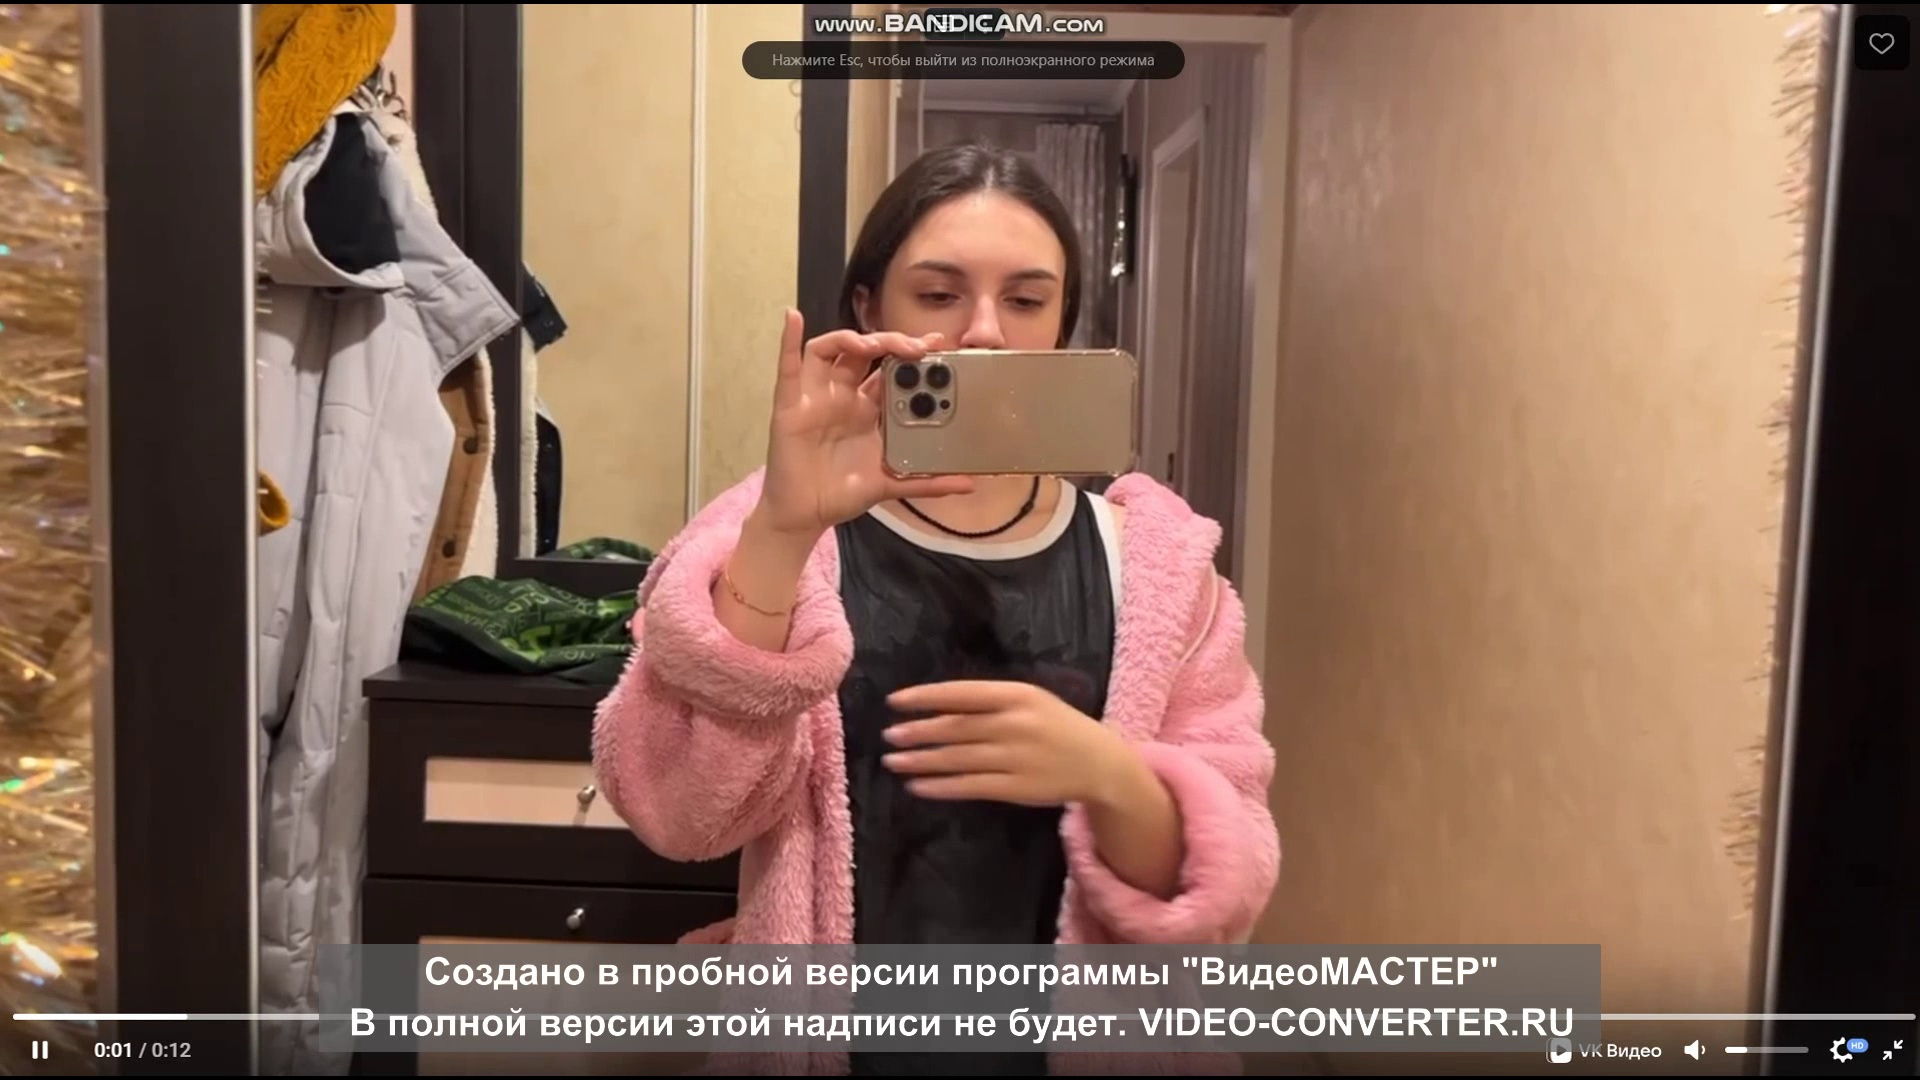Кисть: (884, 678, 1096, 804)
